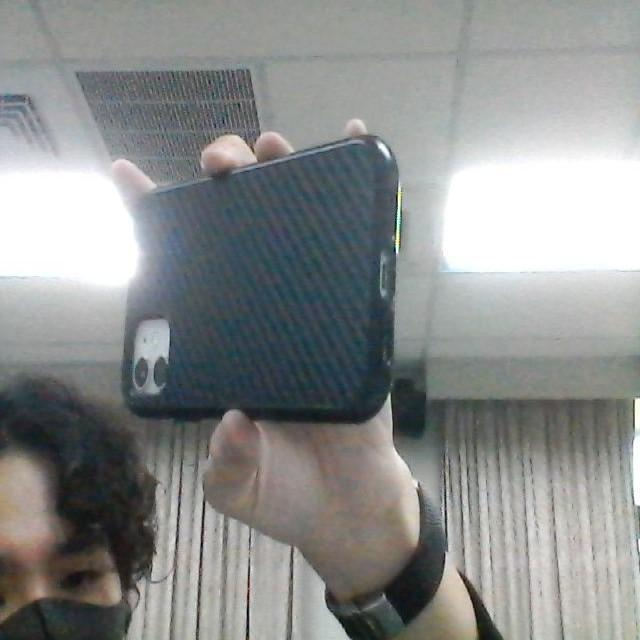phone: (112, 126, 420, 433)
